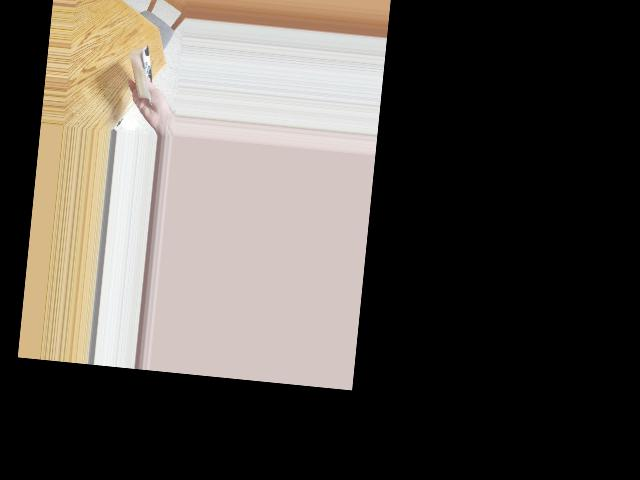cheese: (119, 45, 168, 101)
